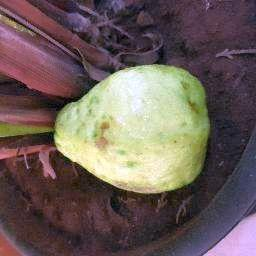guava: (47, 59, 210, 196)
